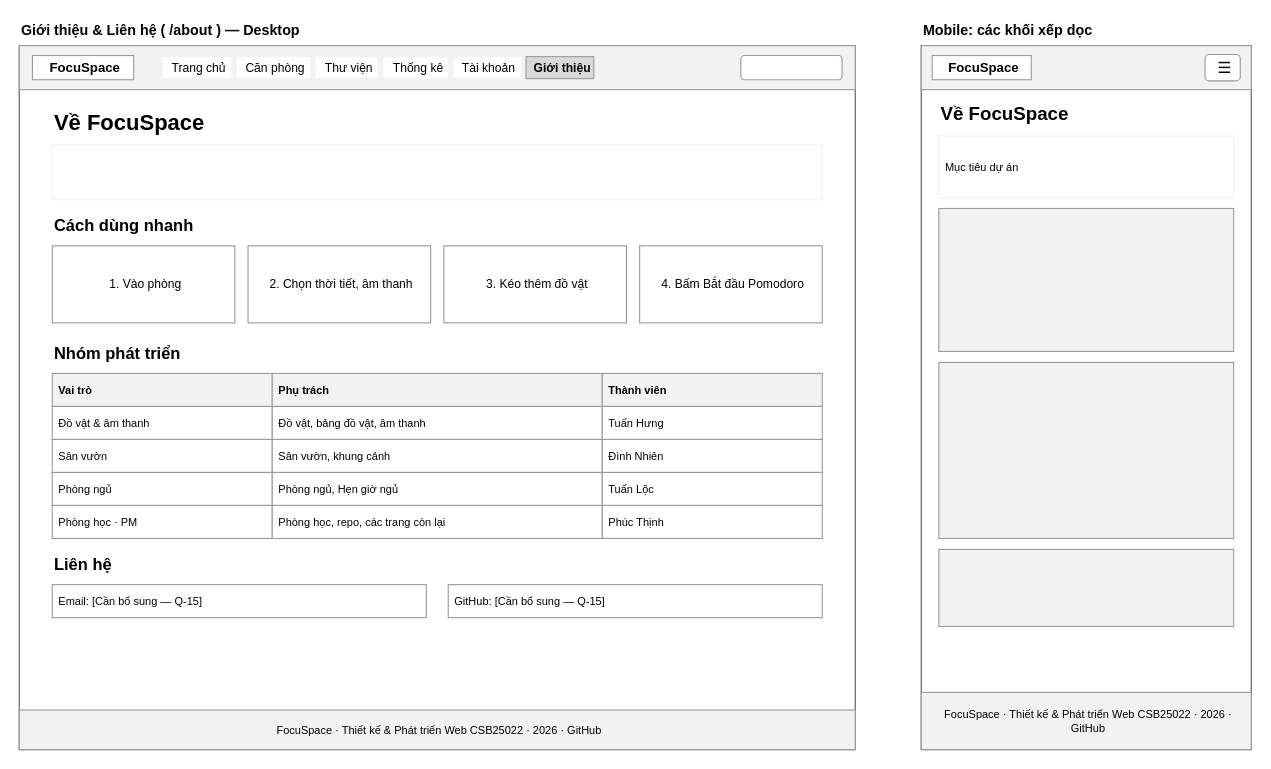
Some shapes in this 1271 by 769 pixel diagram are drawn without their labels. The centre of each missing label's shape, as x and y in pixels:
Cách dùng nhanh: 4 bước xếp dọc: (x=1086, y=279)
Liên hệ: email, GitHub: (x=1086, y=587)
Mục tiêu dự án (2–3 câu): (x=436, y=172)
Nhóm phát triển: bảng thành thẻ, mỗi thành viên một thẻ: (x=1086, y=449)
Đăng nhập: (x=791, y=67)
